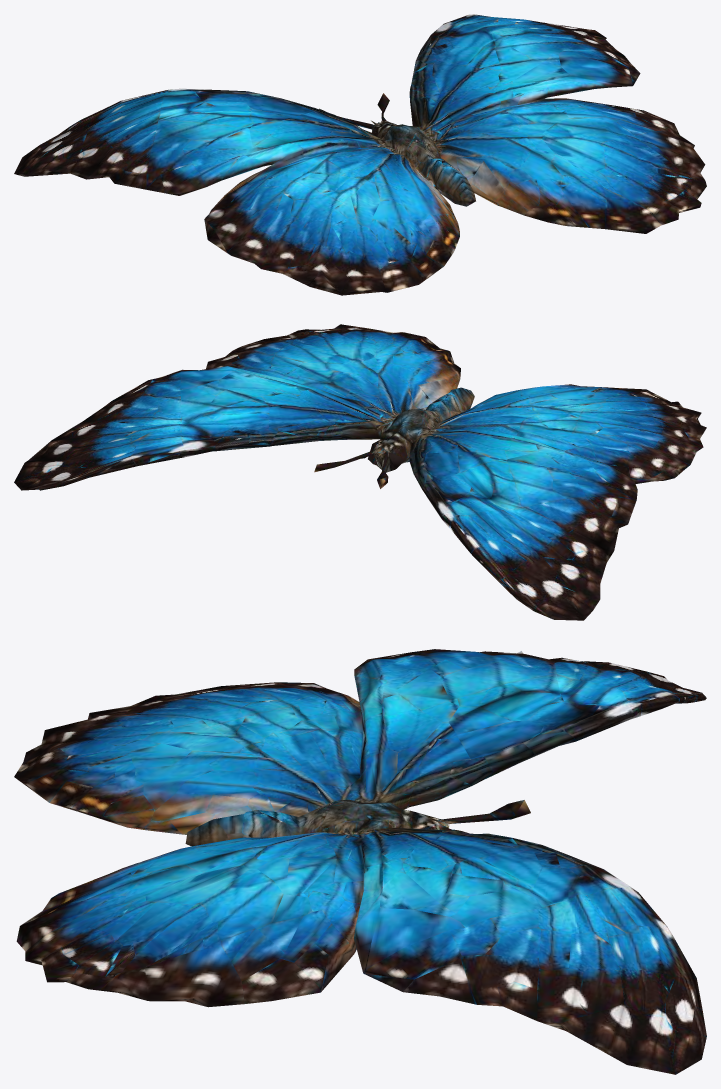
Rendered from butterfly.glb.
The picture shows the model from 3 angles, top to bottom: view 1: azimuth 30°, elevation 25°; view 2: azimuth 150°, elevation 25°; view 3: azimuth 270°, elevation 25°; orthographic projection. The views are drawn at different scales.
Parts seen in each view (by area): view 1: butterfly; view 2: butterfly; view 3: butterfly.
Part boxes in pixels (x1,y1,x2,y2): butterfly: [14, 14, 706, 295]; butterfly: [14, 324, 706, 620]; butterfly: [14, 649, 706, 1074].
Size of the model in its own units: 0.1397 by 0.0155 by 0.1038.
Materials: 1 (1 with a texture image).
